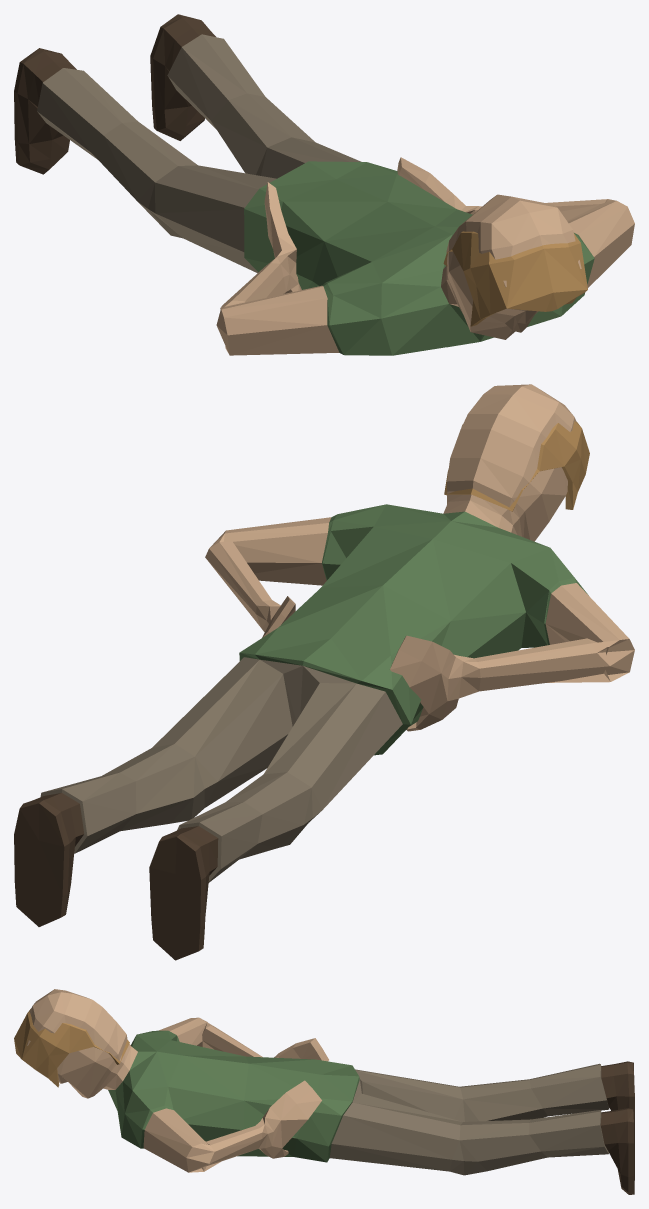
Rendered from man-looking-up.obj.
3 views of the same model, one above another, from view 1: azimuth 30°, elevation 25°; view 2: azimuth 150°, elevation 25°; view 3: azimuth 270°, elevation 25° (orthographic). The views are drawn at different scales.
Visible parts, largest first — view 1: man-looking-up; view 2: man-looking-up; view 3: man-looking-up.
Part boxes in pixels (x1,y1,x2,y2): man-looking-up: (14,14,634,355); man-looking-up: (14,384,634,960); man-looking-up: (14,989,634,1194).
Size of the model in its own units: 36.68 by 21.86 by 68.81.
